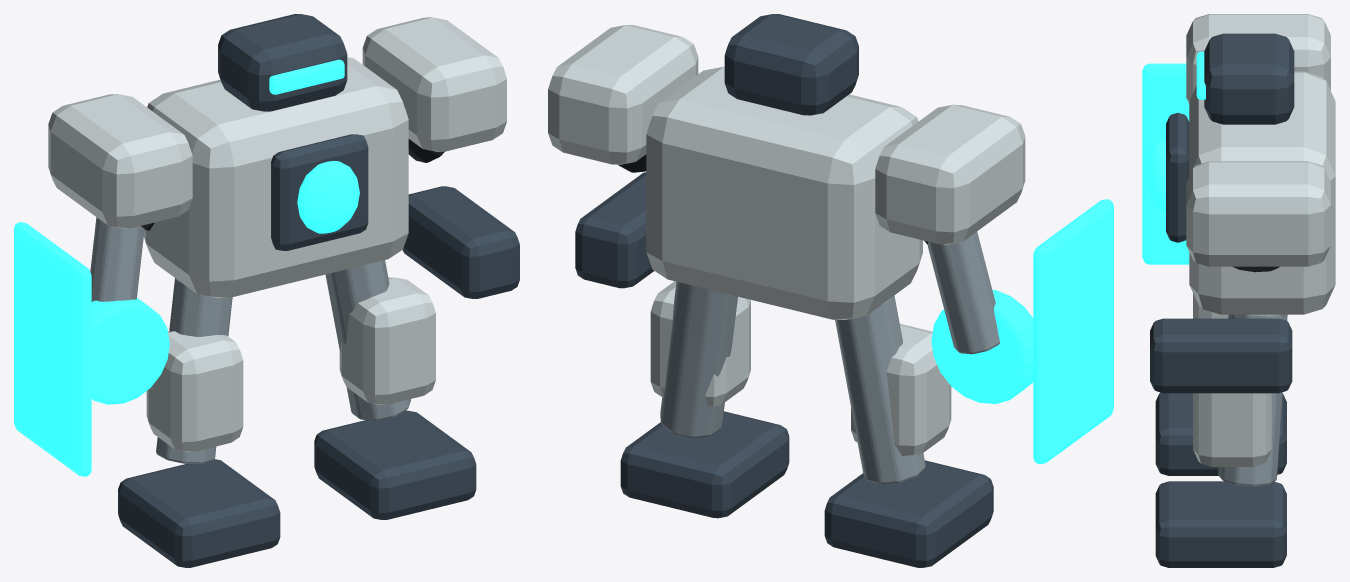
The model's file is mech_protector.glb.
3 views of the same model, side by side, from view 1: azimuth 30°, elevation 25°; view 2: azimuth 150°, elevation 25°; view 3: azimuth 270°, elevation 25° (orthographic). The views are drawn at different scales.
Visible parts, largest first — view 1: Protector armored torso, Projected shield face, Shoulder armor, Shoulder armor.001, Foot, Foot.001, Leg guard.001, Leg guard, Right arm cannon, Head sensor block, Shield emitter, Chest core housing (+5 smaller); view 2: Protector armored torso, Projected shield face, Shoulder armor, Shoulder armor.001, Foot, Foot.001, Head sensor block, Heavy leg.001, Heavy leg, Shield emitter, Leg guard, Right arm cannon (+2 smaller); view 3: Protector armored torso, Shoulder armor.001, Foot.001, Right arm cannon, Head sensor block, Leg guard.001, Projected shield face, Shoulder armor, Foot, Chest core housing, Heavy leg.001, Shield reactor (+2 smaller).
Boxes of the visible parts, bbox=[...] form: Protector armored torso: bbox=[144, 57, 408, 298]; Projected shield face: bbox=[14, 222, 91, 476]; Shoulder armor: bbox=[48, 94, 192, 228]; Shoulder armor.001: bbox=[362, 17, 506, 151]; Foot: bbox=[118, 459, 280, 567]; Foot.001: bbox=[314, 410, 476, 519]; Leg guard.001: bbox=[339, 277, 435, 404]; Leg guard: bbox=[146, 331, 243, 451]; Right arm cannon: bbox=[402, 186, 519, 298]; Head sensor block: bbox=[218, 14, 347, 111]; Shield emitter: bbox=[91, 298, 169, 404]; Chest core housing: bbox=[271, 134, 368, 250]; Protector armored torso: bbox=[646, 66, 922, 319]; Projected shield face: bbox=[1033, 199, 1113, 463]; Shoulder armor: bbox=[875, 104, 1025, 244]; Shoulder armor.001: bbox=[548, 25, 698, 164]; Foot: bbox=[824, 460, 993, 567]; Foot.001: bbox=[620, 411, 789, 518]; Head sensor block: bbox=[724, 14, 858, 115]; Heavy leg.001: bbox=[660, 282, 737, 438]; Heavy leg: bbox=[835, 295, 925, 484]; Shield emitter: bbox=[931, 290, 1033, 403]; Leg guard: bbox=[851, 324, 951, 455]; Right arm cannon: bbox=[575, 172, 653, 288]; Protector armored torso: bbox=[1189, 71, 1335, 314]; Shoulder armor.001: bbox=[1186, 161, 1330, 266]; Foot.001: bbox=[1155, 481, 1286, 567]; Right arm cannon: bbox=[1150, 318, 1292, 393]; Head sensor block: bbox=[1204, 33, 1294, 124]; Leg guard.001: bbox=[1193, 393, 1271, 466]; Projected shield face: bbox=[1142, 63, 1189, 264]; Shoulder armor: bbox=[1186, 14, 1330, 103]; Foot: bbox=[1155, 392, 1286, 475]; Chest core housing: bbox=[1166, 113, 1189, 242]; Heavy leg.001: bbox=[1218, 314, 1287, 486]; Shield reactor: bbox=[1144, 139, 1165, 212].
Size of the model in its own units: 2.71 by 2.66 by 1.03.
